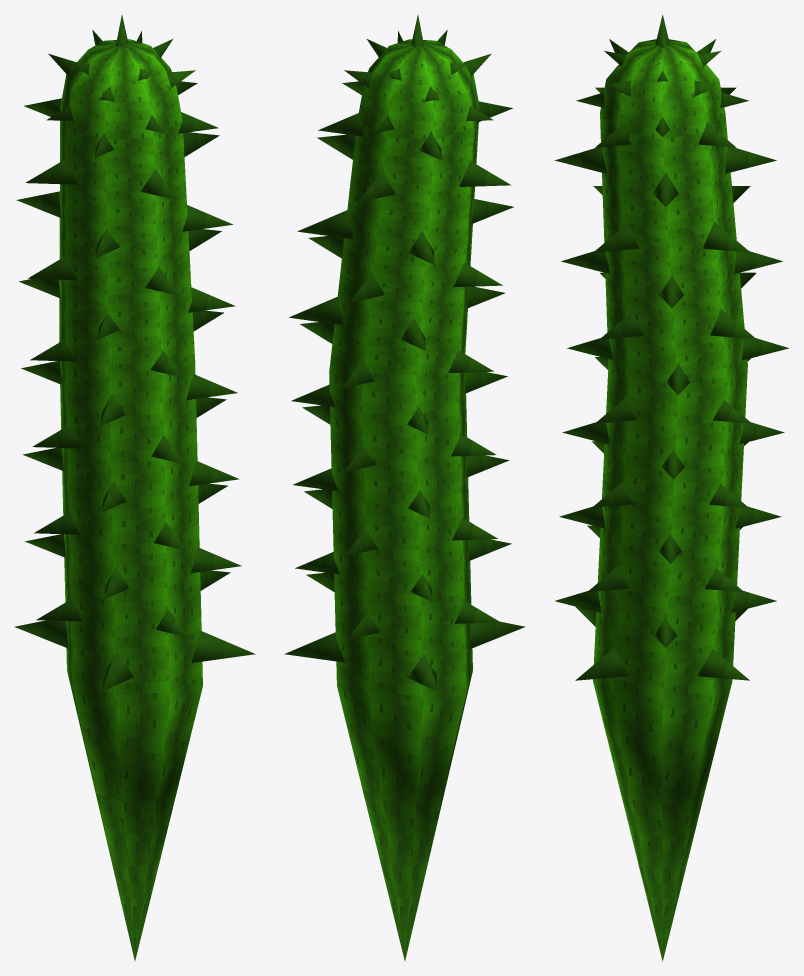
File: Cac Small.fbx
The picture shows the model from 3 angles, left to right: view 1: azimuth 30°, elevation 25°; view 2: azimuth 150°, elevation 25°; view 3: azimuth 270°, elevation 25°; orthographic projection.
Visible parts, largest first — view 1: Cac Small; view 2: Cac Small; view 3: Cac Small.
Boxes of the visible parts, x1,y1,x2,y2 form: Cac Small: (14,15,255,960); Cac Small: (284,15,525,960); Cac Small: (554,15,788,961).
Bounding box in the file's own units: 635 × 2803 × 635.
